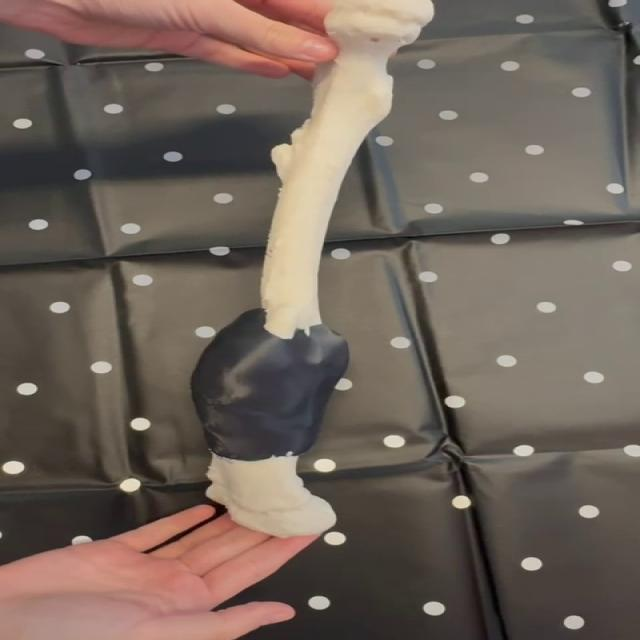bones: (191, 0, 433, 537)
